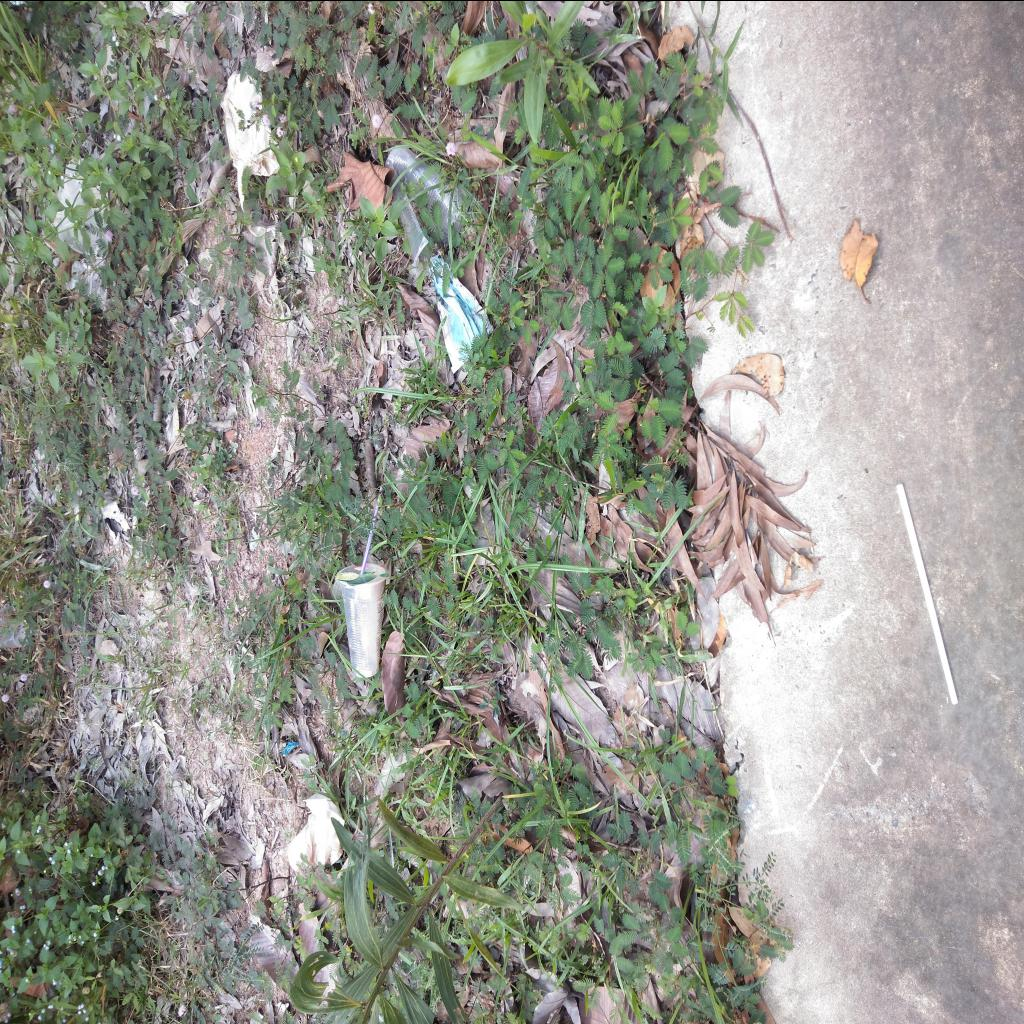Disposable plastic cup: (386, 146, 466, 266), (336, 563, 388, 678), (56, 158, 105, 254)
Other plastic: (284, 740, 298, 754)
Plastic straw: (896, 482, 958, 704), (359, 481, 385, 575)
Unlabeled litter: (220, 70, 280, 214), (430, 253, 494, 373), (287, 792, 345, 870)
